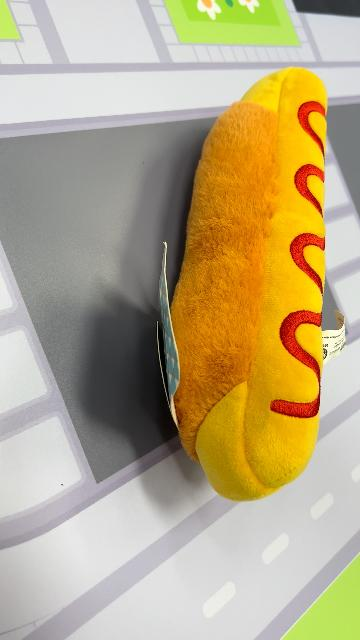hotdog: (164, 65, 330, 503)
